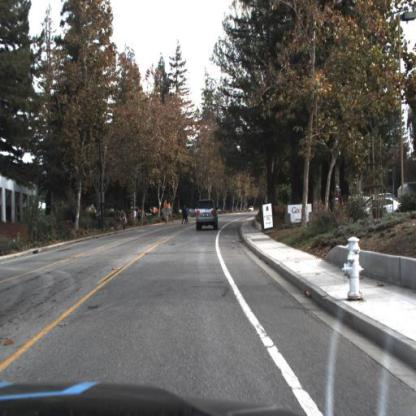biker: (119, 207, 129, 235), (118, 210, 128, 234)
car: (196, 200, 220, 229)
pedestrian: (131, 207, 136, 227), (183, 205, 188, 225), (137, 206, 142, 224), (185, 209, 189, 225)
